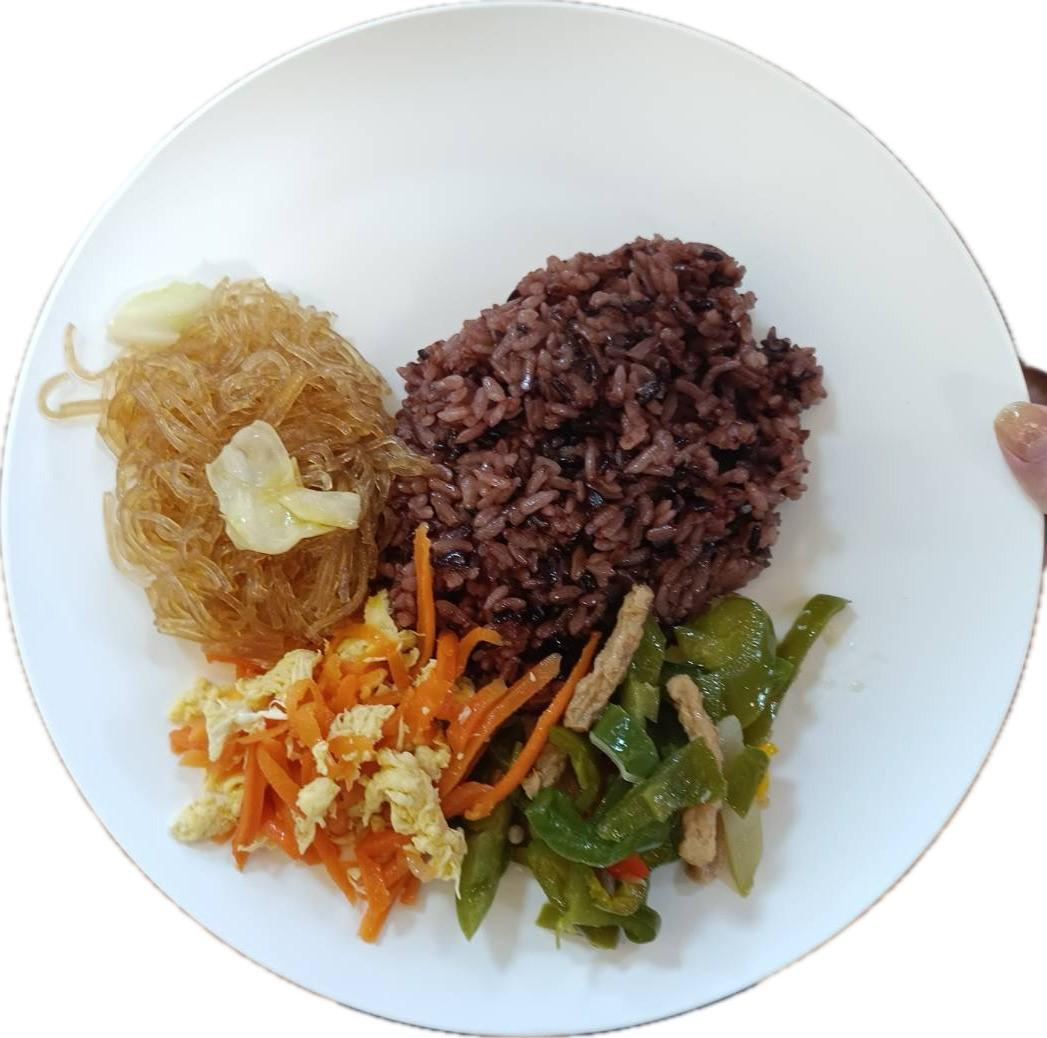big fried chicken leg: (0, 1, 1047, 1038)
braised fish: (376, 236, 823, 648)
braised fish fillet: (456, 566, 850, 950), (68, 268, 398, 654), (164, 618, 565, 910)
